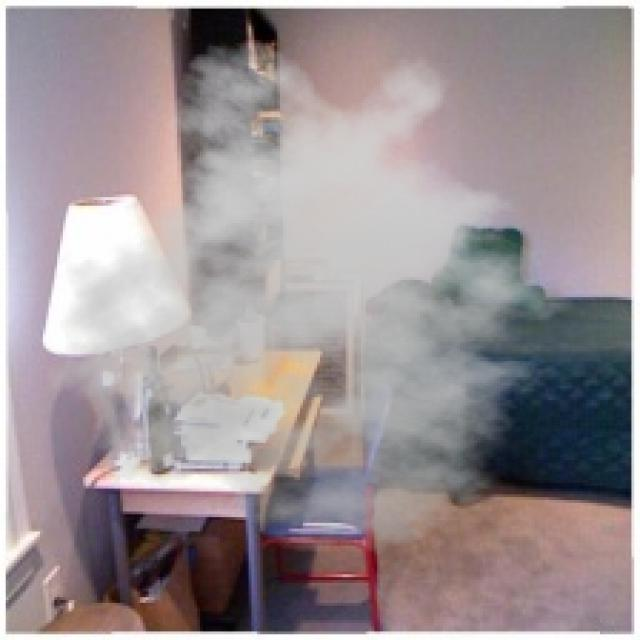smoke: (31, 37, 600, 554)
